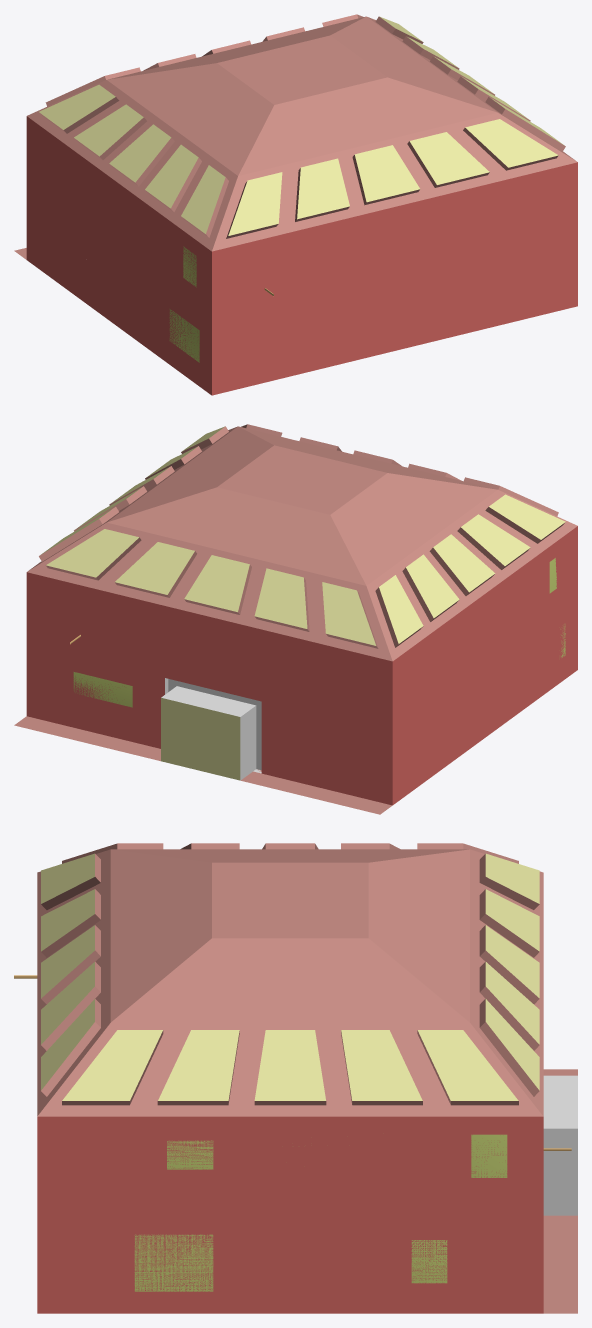
The model's file is Museum.fbx.
3 renders of one model, top to bottom at view 1: azimuth 30°, elevation 25°; view 2: azimuth 150°, elevation 25°; view 3: azimuth 270°, elevation 25°, orthographic. The views are drawn at different scales.
Parts seen in each view (by area): view 1: walls1, windows, pic5; view 2: walls1, windows, polySurface2, pic9; view 3: windows, walls1, pic, polySurface2, pic2, pic1, pic4.
Part boxes in pixels (box(x1,y1,x2,y2)): walls1: box(26, 116, 577, 395); windows: box(27, 14, 577, 251); pic5: box(169, 309, 199, 362); walls1: box(26, 526, 577, 805); windows: box(27, 424, 577, 661); polySurface2: box(14, 716, 392, 814); pic9: box(73, 672, 132, 707); windows: box(37, 843, 543, 1116); walls1: box(37, 1075, 577, 1313); pic: box(134, 1234, 213, 1291); polySurface2: box(543, 1069, 577, 1313); pic2: box(471, 1134, 507, 1177); pic1: box(411, 1240, 447, 1283); pic4: box(167, 1140, 213, 1169).
Size of the model in its own units: 3812 by 2137 by 3722.
